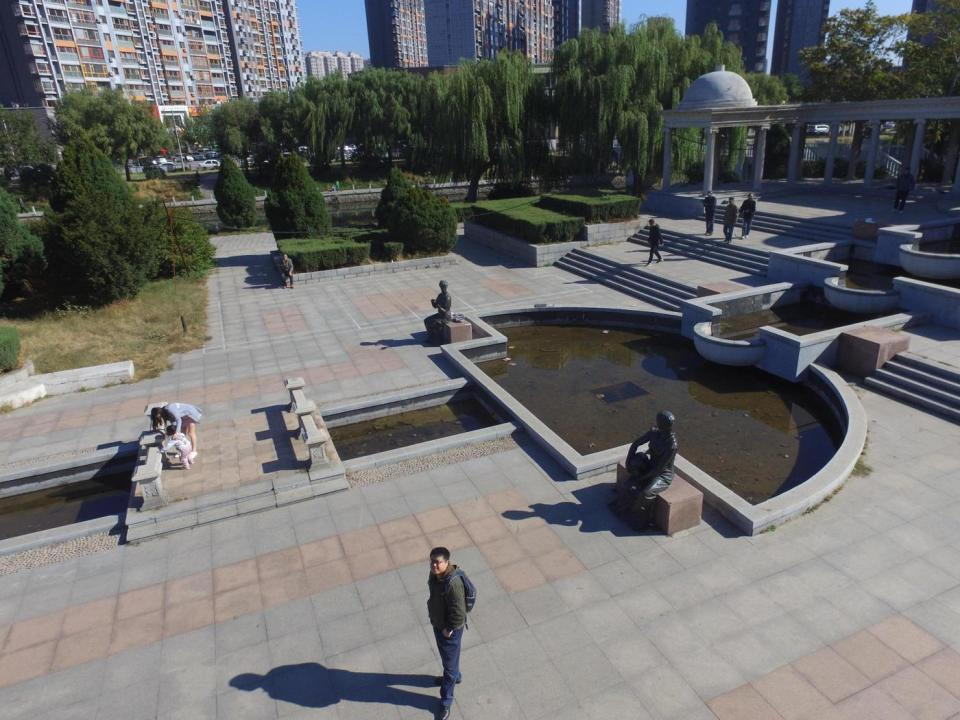car: (237, 158, 272, 170), (199, 158, 226, 170), (171, 152, 195, 163), (137, 156, 158, 168), (155, 162, 180, 172), (151, 153, 167, 167), (196, 148, 218, 157), (187, 150, 205, 160)
van: (807, 123, 834, 136)
